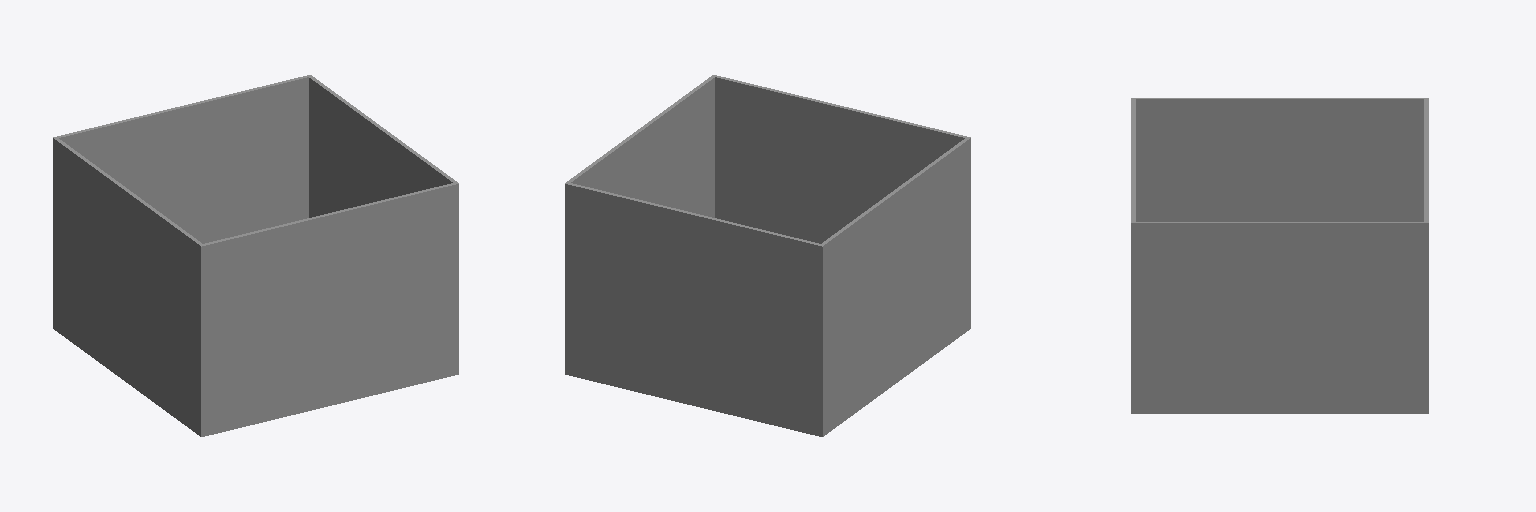
The model's file is gate21.obj.
3 views of the same model, side by side, from view 1: azimuth 30°, elevation 25°; view 2: azimuth 150°, elevation 25°; view 3: azimuth 270°, elevation 25° (orthographic).
Parts seen in each view (by area): view 1: Cylinder; view 2: Cylinder; view 3: Cylinder.
Boxes of the visible parts, box(x1,y1,x2,y2) form: Cylinder: box(53, 75, 458, 436); Cylinder: box(565, 75, 970, 436); Cylinder: box(1131, 98, 1428, 413).
Bounding box in the file's own units: 2.73 × 1.93 × 2.73.